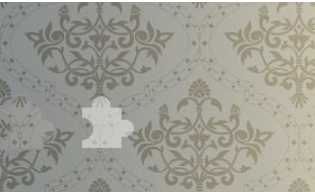target: (75, 94, 138, 151)
